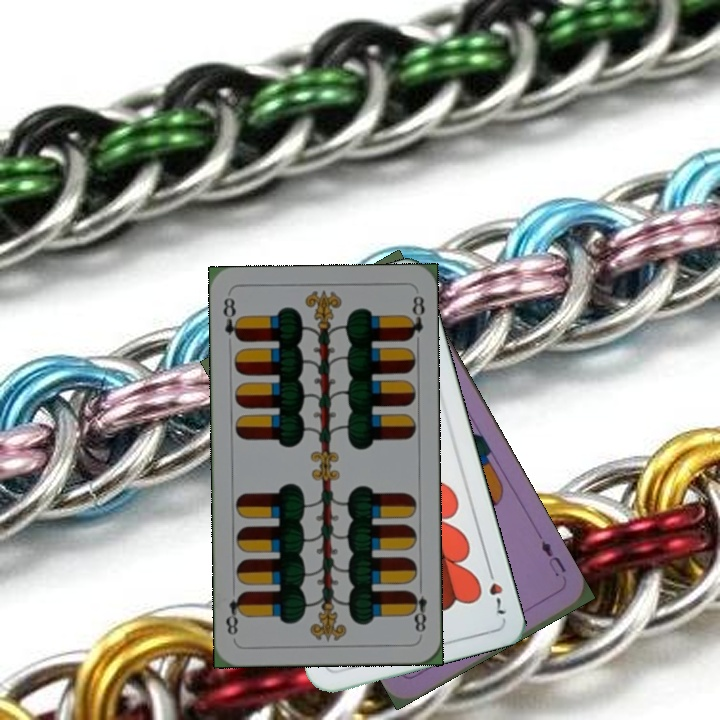E8: (406, 579, 429, 635), (219, 294, 244, 344)
EU: (537, 537, 569, 579)
H7: (483, 562, 509, 619)
